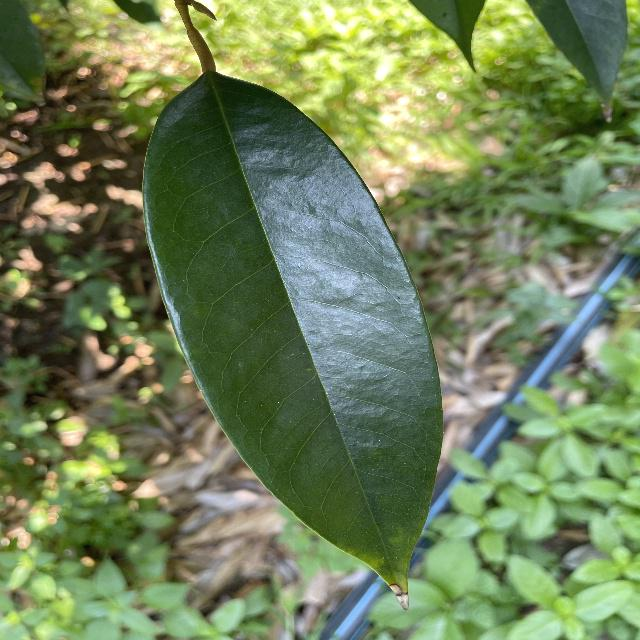No Disease: (135, 61, 453, 615)
